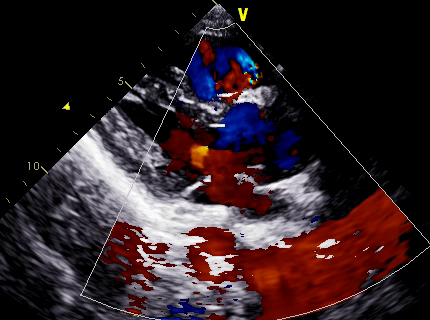AR: (169, 123, 253, 177)
